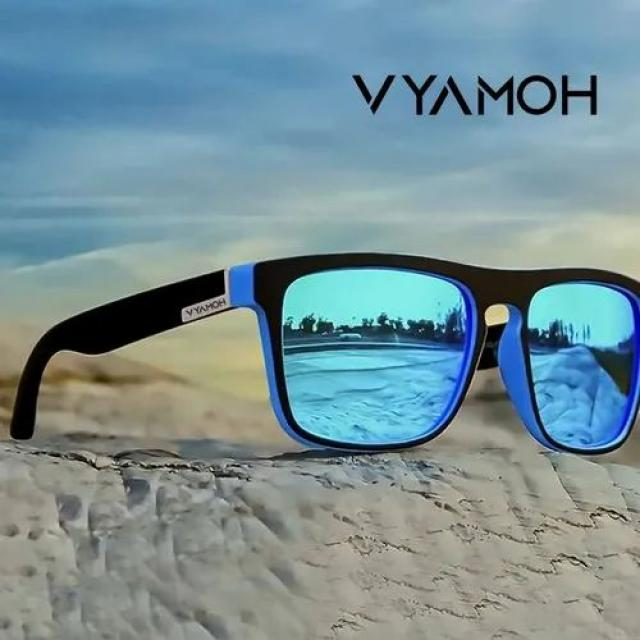suspicious-objects: (264, 228, 638, 458)
